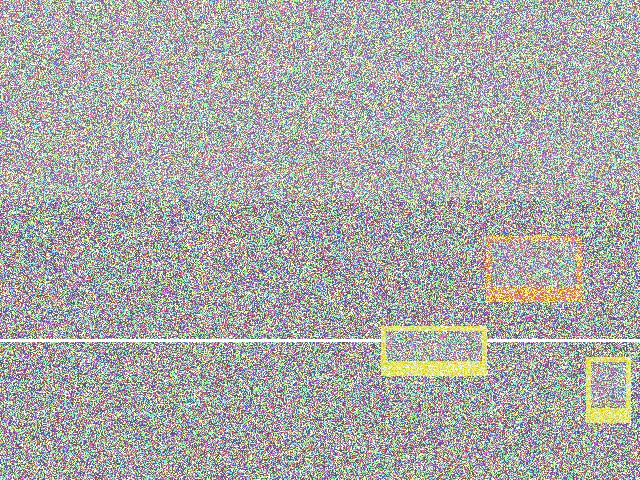motorcycle: (346, 278, 423, 410)
